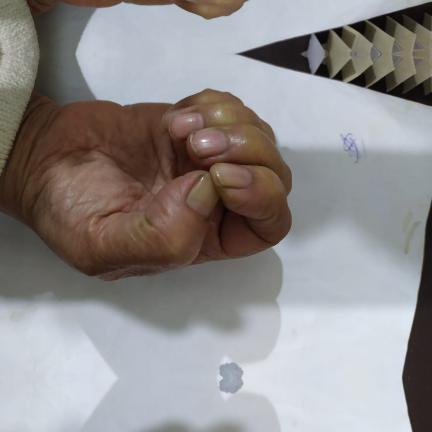Nail: (186, 171, 219, 217), (190, 129, 227, 158), (168, 112, 204, 140), (214, 164, 252, 188)
